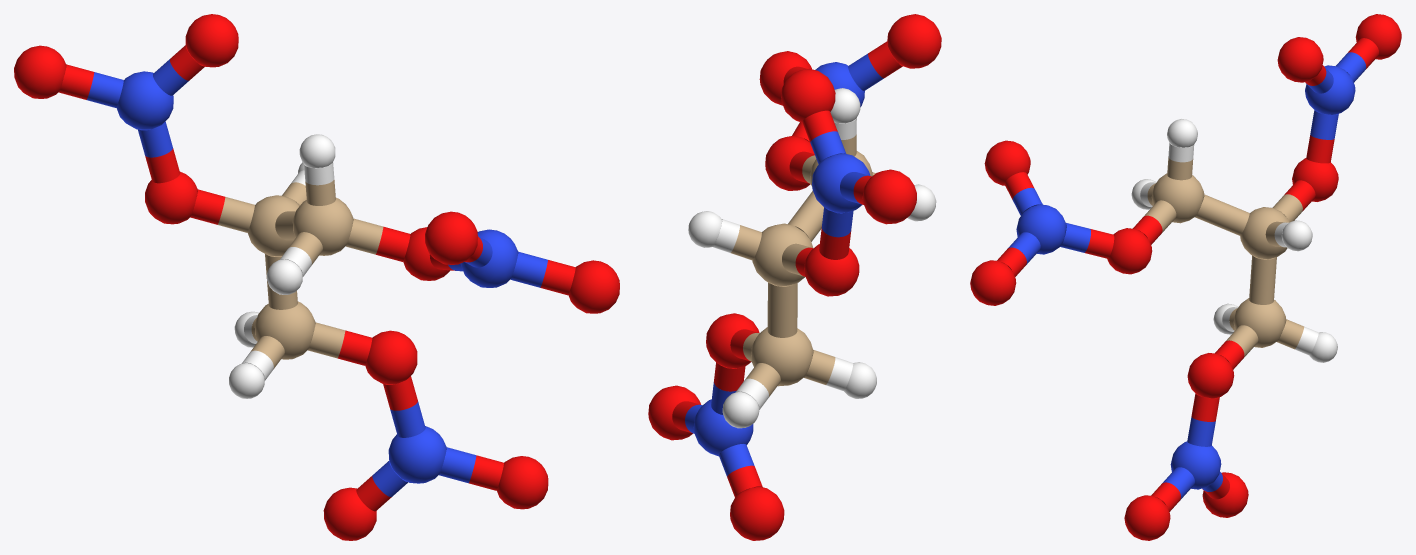
The model's file is Nitroglycerin.dae.
3 views of the same model, side by side, from view 1: azimuth 30°, elevation 25°; view 2: azimuth 150°, elevation 25°; view 3: azimuth 270°, elevation 25° (orthographic). The views are drawn at different scales.
Visible parts, largest first — view 1: subnode_12, subnode_9, subnode_3, subnode_1, subnode_14, subnode_8, subnode_4, subnode_13, subnode_7, subnode_10, subnode_11, subnode_5 (+22 smaller); view 2: subnode_3, subnode_13, subnode_8, subnode_11, subnode_2, subnode_14, subnode_12, subnode_5, subnode_9, subnode_4, subnode_0, subnode_10 (+30 smaller); view 3: subnode_4, subnode_1, subnode_6, subnode_3, subnode_10, subnode_7, subnode_14, subnode_0, subnode_9, subnode_2, subnode_12, subnode_8 (+21 smaller).
Part boxes in pixels (x1,y1,x2,y2): subnode_12: [116, 71, 173, 129]; subnode_9: [388, 426, 446, 483]; subnode_3: [254, 301, 315, 359]; subnode_1: [292, 197, 353, 255]; subnode_14: [185, 14, 238, 67]; subnode_8: [425, 211, 477, 264]; subnode_4: [365, 330, 417, 384]; subnode_13: [14, 45, 66, 98]; subnode_7: [568, 260, 619, 313]; subnode_10: [496, 456, 548, 509]; subnode_11: [323, 487, 376, 540]; subnode_5: [145, 171, 197, 224]; subnode_3: [751, 327, 813, 386]; subnode_13: [862, 169, 916, 224]; subnode_8: [887, 14, 941, 68]; subnode_11: [730, 486, 784, 540]; subnode_2: [752, 223, 813, 286]; subnode_14: [781, 68, 835, 122]; subnode_12: [812, 153, 870, 213]; subnode_5: [804, 244, 859, 296]; subnode_9: [693, 399, 753, 456]; subnode_4: [706, 313, 759, 368]; subnode_0: [765, 135, 814, 190]; subnode_10: [648, 385, 700, 440]; subnode_4: [1187, 353, 1234, 398]; subnode_1: [1151, 173, 1204, 223]; subnode_6: [1016, 204, 1066, 254]; subnode_3: [1233, 298, 1286, 347]; subnode_10: [1124, 495, 1170, 540]; subnode_7: [970, 260, 1016, 305]; subnode_14: [1277, 37, 1323, 82]; subnode_0: [1107, 228, 1152, 274]; subnode_9: [1170, 441, 1221, 489]; subnode_2: [1240, 207, 1289, 259]; subnode_12: [1305, 65, 1355, 114]; subnode_8: [984, 140, 1030, 185].
Bounding box in the file's own units: 6.2 × 7.75 × 6.93.
